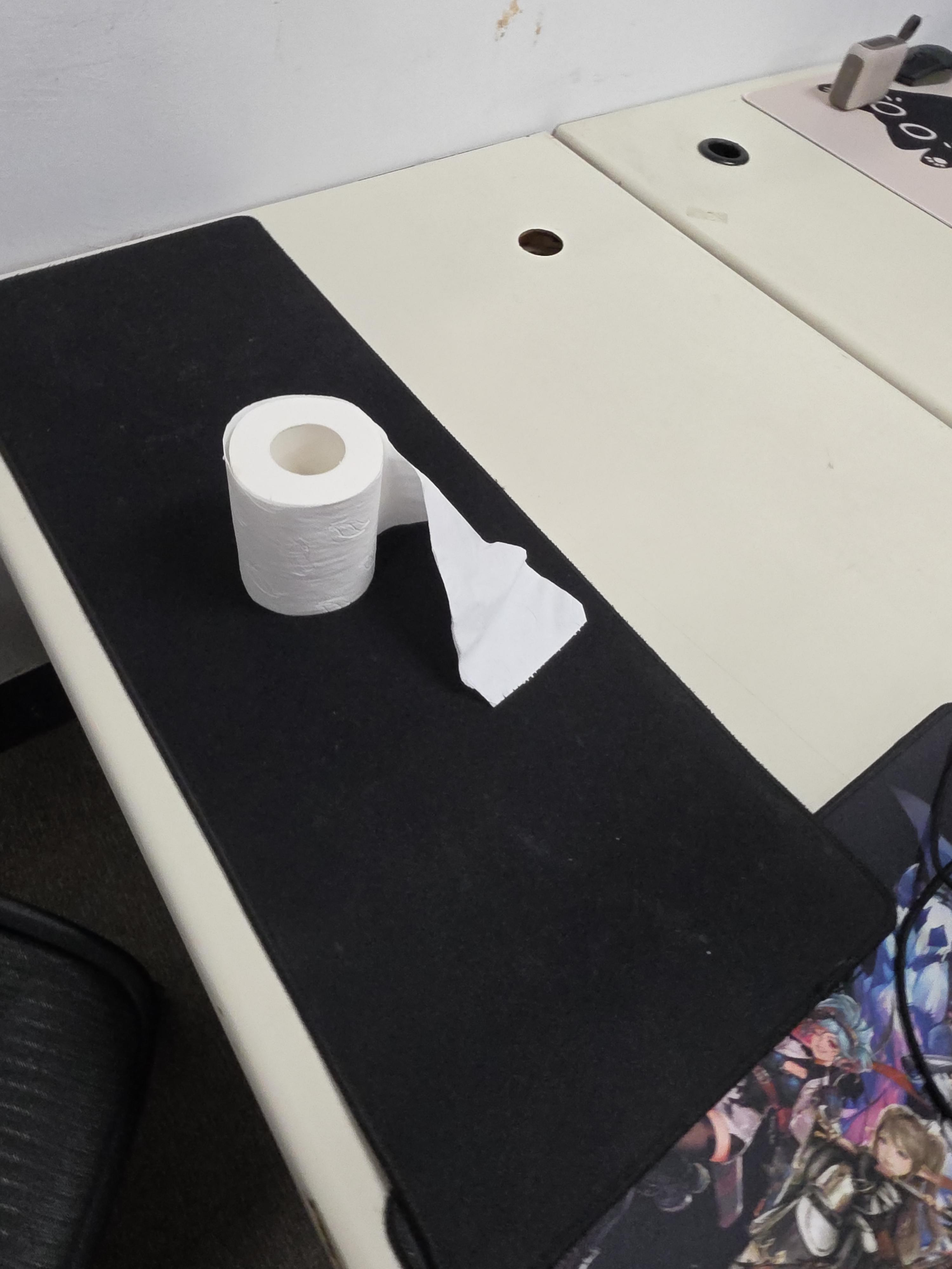tissue: (222, 394, 588, 707)
